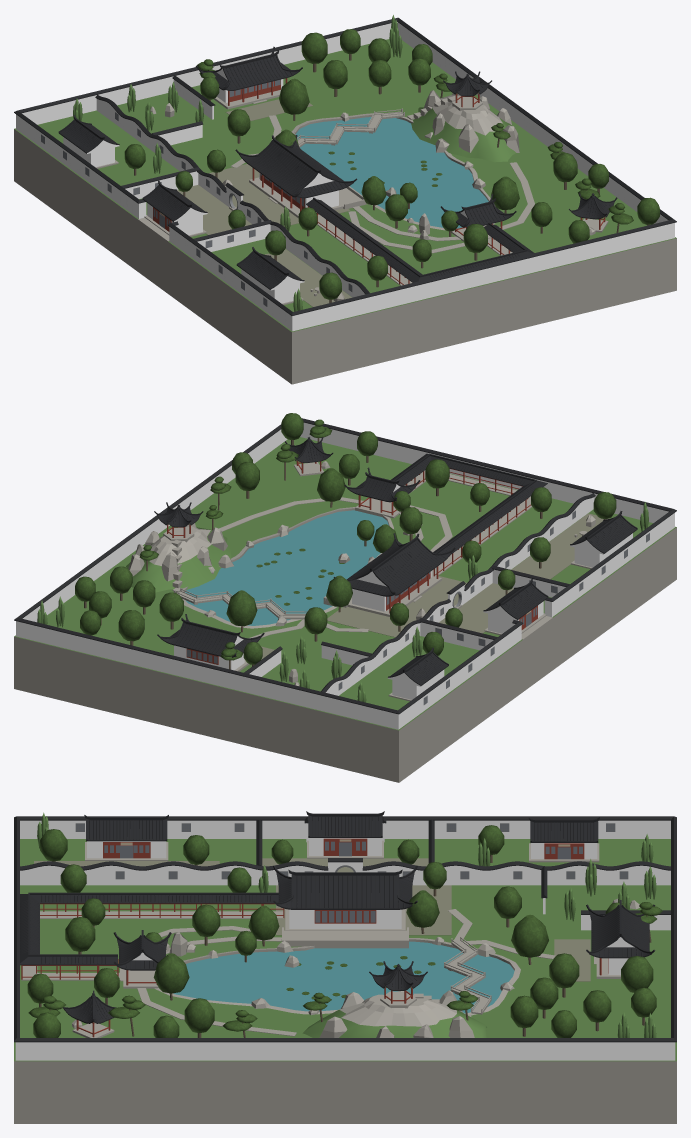
Rendered from top-prebuilt_close.fbx.
3 renders of one model, top to bottom at view 1: azimuth 30°, elevation 25°; view 2: azimuth 150°, elevation 25°; view 3: azimuth 270°, elevation 25°, orthographic. The views are drawn at different scales.
Parts seen in each view (by area): view 1: landmark-classical_garden/0/top-prebuilt_close; view 2: landmark-classical_garden/0/top-prebuilt_close; view 3: landmark-classical_garden/0/top-prebuilt_close.
Part boxes in pixels (box(x1,y1,x2,y2)): landmark-classical_garden/0/top-prebuilt_close: box(14, 15, 676, 384); landmark-classical_garden/0/top-prebuilt_close: box(14, 413, 676, 782); landmark-classical_garden/0/top-prebuilt_close: box(14, 811, 676, 1123).
Size of the model in its own units: 80 by 22 by 100.
